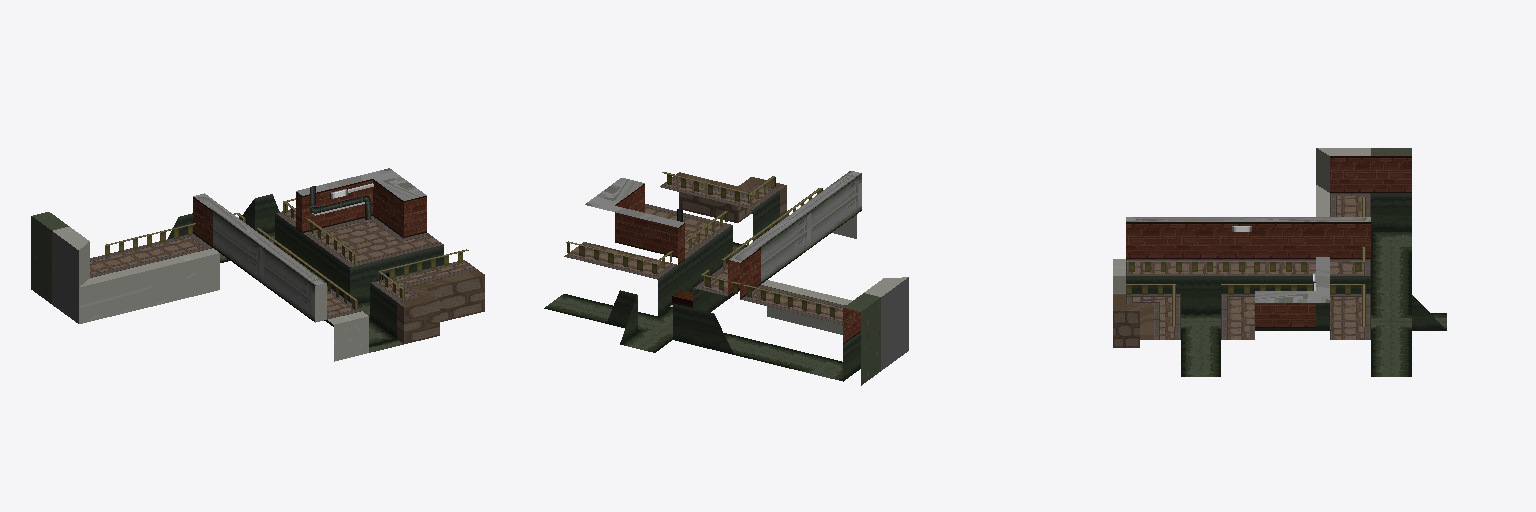
3 renders of one model, left to right at view 1: azimuth 30°, elevation 25°; view 2: azimuth 150°, elevation 25°; view 3: azimuth 270°, elevation 25°, orthographic.
Parts seen in each view (by area): view 1: polygon3, polygon9, polygon5, polygon2, polygon4, polygon1, polygon6, polygon0, polygon19, polygon18, polygon17; view 2: polygon2, polygon5, polygon3, polygon18, polygon4, polygon6, polygon1, polygon9, polygon0, polygon19; view 3: polygon4, polygon18, polygon3, polygon2, polygon1, polygon5, polygon6, polygon9.
Boxes of the visible parts, x1=… form: polygon3: x1=90, y1=212, x2=484, y2=343; polygon9: x1=53, y1=226, x2=368, y2=361; polygon5: x1=193, y1=168, x2=426, y2=321; polygon2: x1=168, y1=194, x2=443, y2=338; polygon4: x1=193, y1=179, x2=426, y2=247; polygon1: x1=90, y1=209, x2=477, y2=319; polygon6: x1=105, y1=198, x2=468, y2=310; polygon0: x1=52, y1=231, x2=78, y2=323; polygon19: x1=31, y1=212, x2=68, y2=303; polygon18: x1=220, y1=230, x2=403, y2=352; polygon17: x1=310, y1=186, x2=370, y2=219; polygon2: x1=606, y1=191, x2=860, y2=381; polygon5: x1=585, y1=171, x2=861, y2=283; polygon3: x1=568, y1=172, x2=842, y2=320; polygon18: x1=544, y1=242, x2=842, y2=380; polygon4: x1=615, y1=184, x2=860, y2=344; polygon6: x1=566, y1=172, x2=835, y2=317; polygon1: x1=564, y1=177, x2=845, y2=324; polygon9: x1=761, y1=215, x2=907, y2=334; polygon0: x1=881, y1=277, x2=908, y2=370; polygon19: x1=844, y1=293, x2=880, y2=385; polygon4: x1=1126, y1=156, x2=1411, y2=327; polygon18: x1=1181, y1=230, x2=1446, y2=376; polygon3: x1=1113, y1=196, x2=1363, y2=347; polygon2: x1=1126, y1=193, x2=1446, y2=330; polygon1: x1=1126, y1=193, x2=1370, y2=339; polygon5: x1=1126, y1=217, x2=1370, y2=302; polygon6: x1=1126, y1=197, x2=1365, y2=326; polygon9: x1=1113, y1=148, x2=1370, y2=293.
Bounding box in the file's own units: 6.75 × 1.75 × 6.16.
Materials: 20 (17 with a texture image).